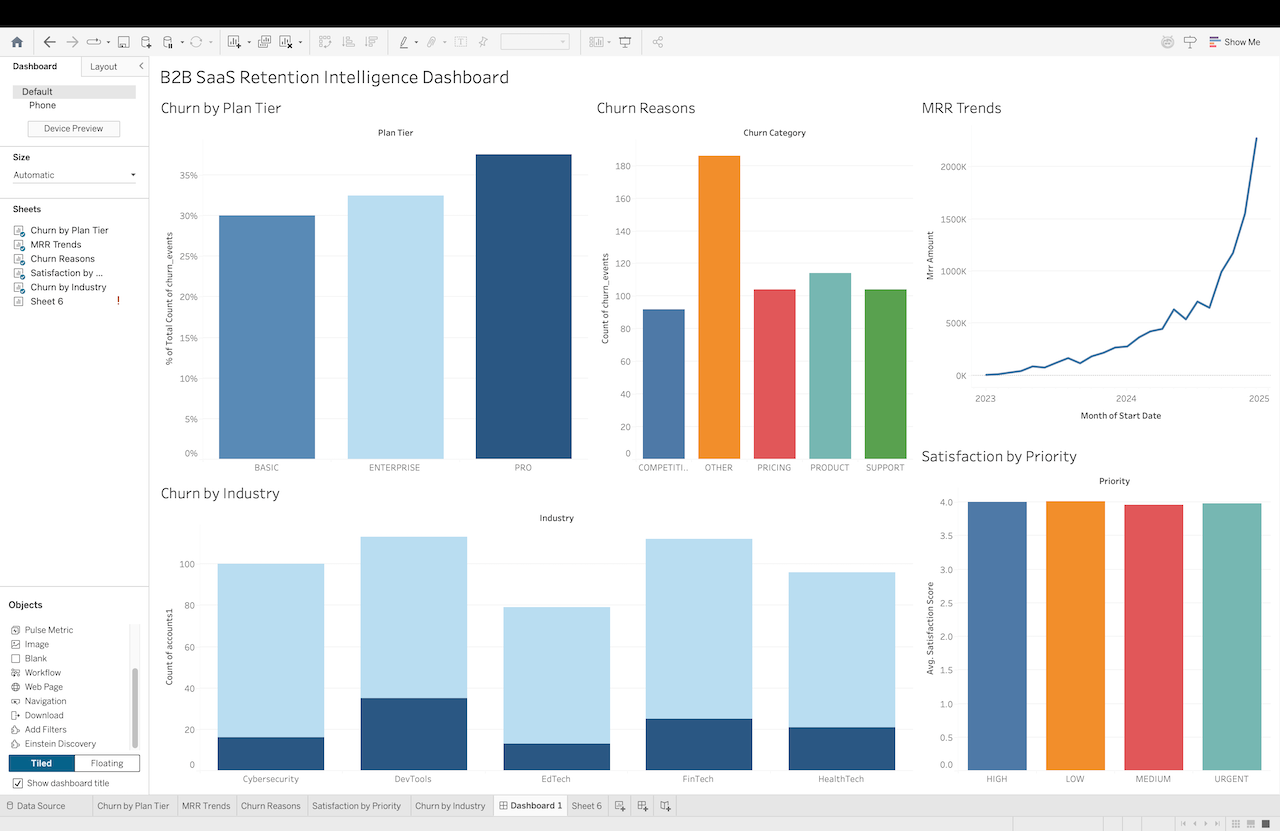

What the dashboard file says about the page in this screenshot:
{"tool":"tableau","page":{"name":"Dashboard 1","canvas":[1024,768],"ordinal":0},"visuals":[{"type":"title","box":[8,8,1008,42]},{"type":"worksheet","title":"Churn by Plan Tier","mark":"Automatic","rows":["churn_events_E6797AB9E78B4BE39A44102658C98FB3"],"cols":["plan_tier"],"box":[8,50,349,392.8]},{"type":"worksheet","title":"Churn Reasons","mark":"Automatic","rows":["churn_events_E6797AB9E78B4BE39A44102658C98FB3"],"cols":["churn_category"],"box":[357,50,260,392.8]},{"type":"worksheet","title":"MRR Trends","mark":"Automatic","rows":["mrr_amount"],"cols":["start_date"],"box":[617,50,399,376]},{"type":"worksheet","title":"Satisfaction by Priority","mark":"Automatic","rows":["satisfaction_score"],"cols":["priority"],"box":[617,432.4,399,327.6]},{"type":"worksheet","title":"Churn by Industry","mark":"Automatic","rows":["accounts_08FAB6C1587746F9A1A92F9EA1ADD2BE"],"cols":["industry"],"box":[8,442.8,609,317.2]}]}

Visuals, with their boxes on the page's 1024x768 design canvas (x1, y1, x2, y2). These are canvas units, not pixel positions in the 1280x831 screenshot, which may show the page scaled, cropped or inside an application window:
title: [left=8, top=8, right=1016, bottom=50]
"Churn by Plan Tier" worksheet: [left=8, top=50, right=357, bottom=443]
"Churn Reasons" worksheet: [left=357, top=50, right=617, bottom=443]
"MRR Trends" worksheet: [left=617, top=50, right=1016, bottom=426]
"Satisfaction by Priority" worksheet: [left=617, top=432, right=1016, bottom=760]
"Churn by Industry" worksheet: [left=8, top=443, right=617, bottom=760]
